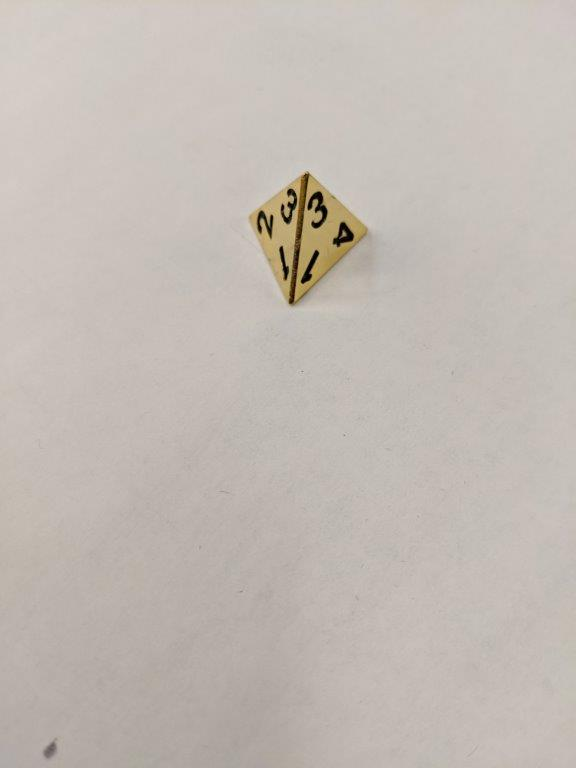d4-3: (250, 170, 368, 309)
